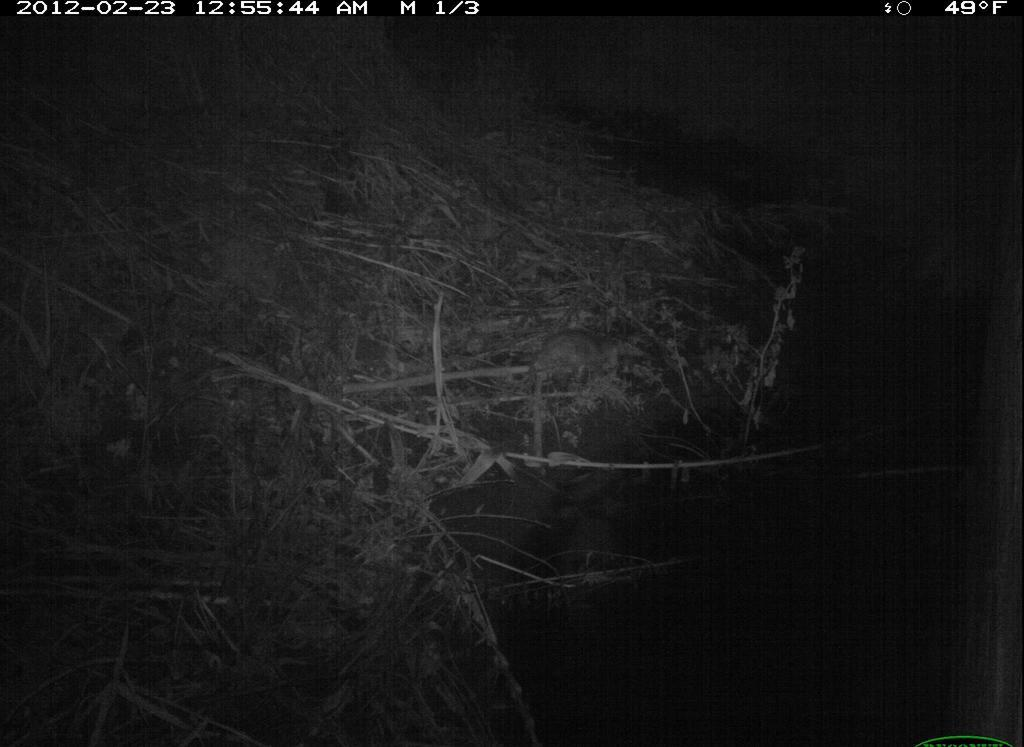opossum: (529, 324, 648, 385)
